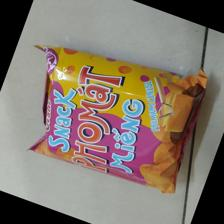Oishi_phomat: (22, 43, 209, 200)
